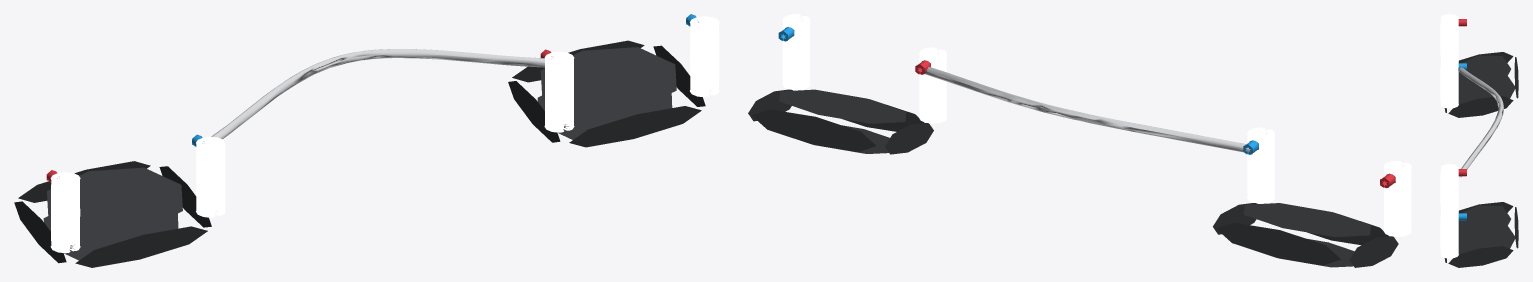
Rendered from transaxle_dual_coolers.glb.
The picture shows the model from 3 angles, left to right: view 1: azimuth 30°, elevation 25°; view 2: azimuth 150°, elevation 25°; view 3: azimuth 270°, elevation 25°; orthographic projection. The views are drawn at different scales.
Parts seen in each view (by area): view 1: Transaxle_Coolers_Scoops_Assembly; view 2: Transaxle_Coolers_Scoops_Assembly; view 3: Transaxle_Coolers_Scoops_Assembly.
Boxes of the visible parts, left/top/right/bottom form: Transaxle_Coolers_Scoops_Assembly: left=14, top=14, right=719, bottom=267; Transaxle_Coolers_Scoops_Assembly: left=748, top=14, right=1411, bottom=267; Transaxle_Coolers_Scoops_Assembly: left=1440, top=14, right=1518, bottom=267.
Bounding box in the file's own units: 0.916 × 0.1489 × 0.1502.
